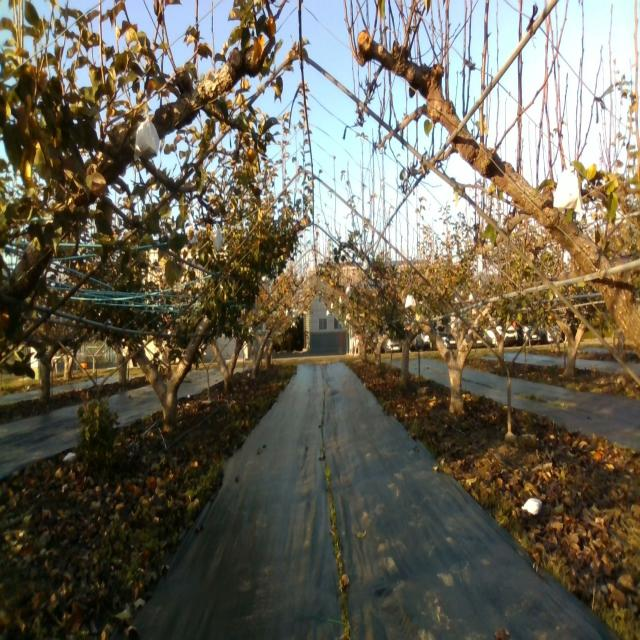pearbags: (553, 166, 583, 213), (134, 115, 160, 162)
